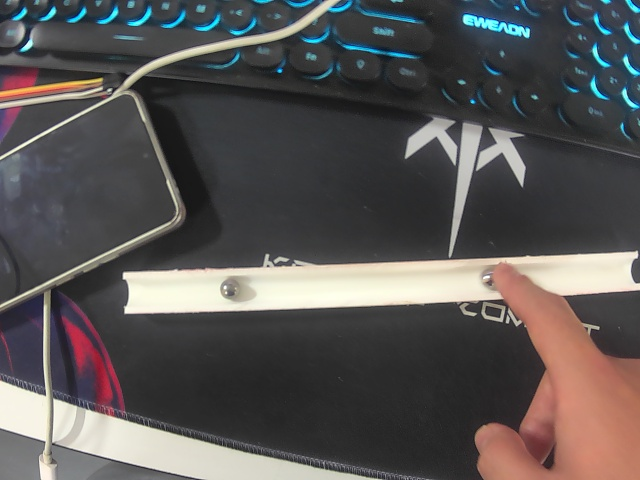steelball: (220, 278, 240, 299)
